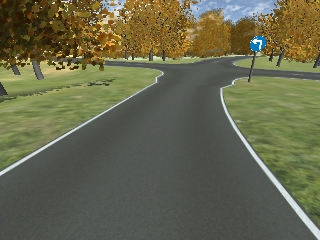left: (249, 35, 266, 52)
